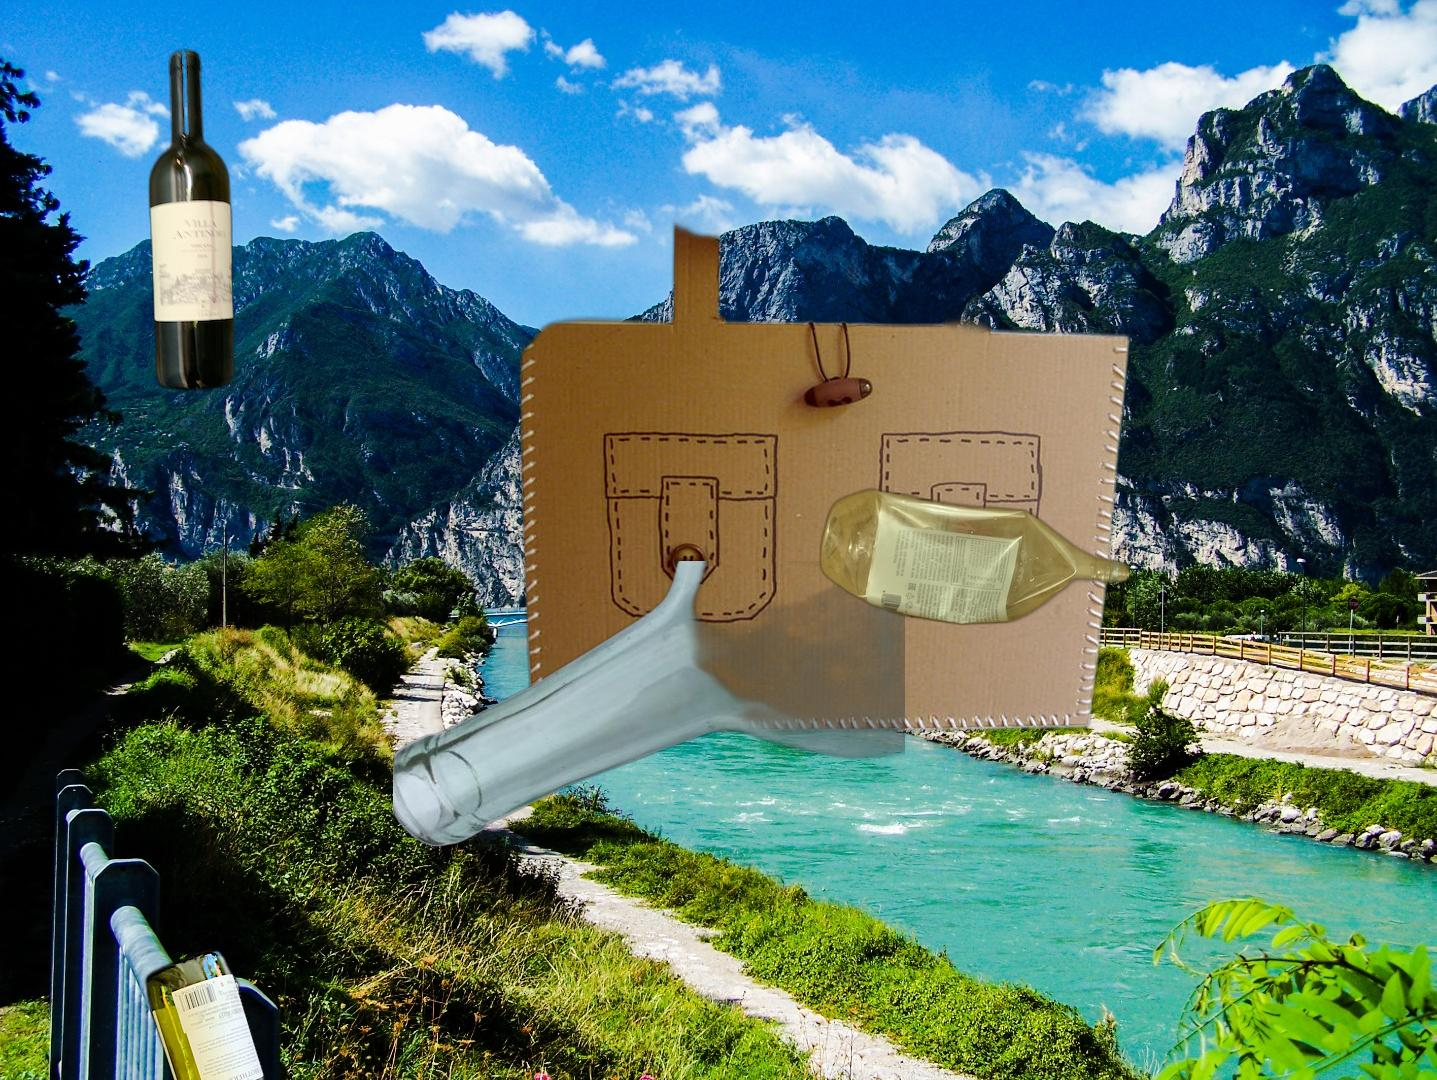glass: (394, 562, 905, 849), (144, 44, 239, 397), (140, 944, 301, 1080)
plastic-bottles: (815, 486, 1133, 630)
trashbox-cardboard: (471, 201, 1136, 1080)
